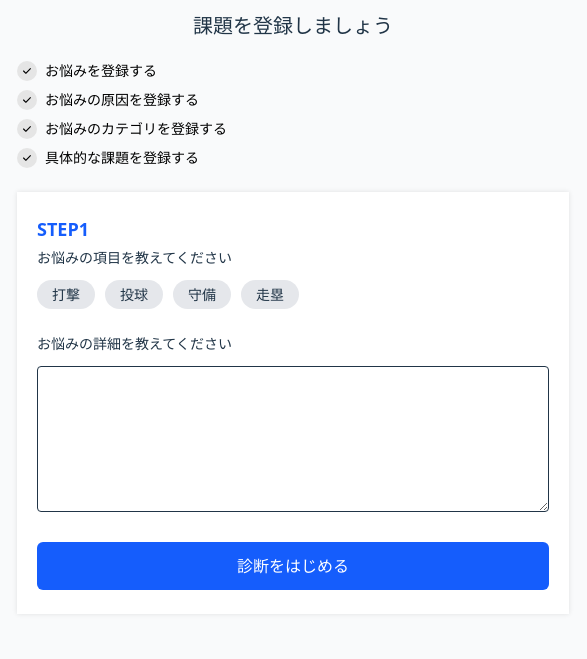
Test: STEP画面1のテスト › フォームのみ登録した場合、「選択肢が未登録です」の文字列が表示される
The width and height of the screenshot is (587, 659).
Type "テストテキスト" into the text box with class "step1Form". click: (293, 439)
box: [37,366,549,512]
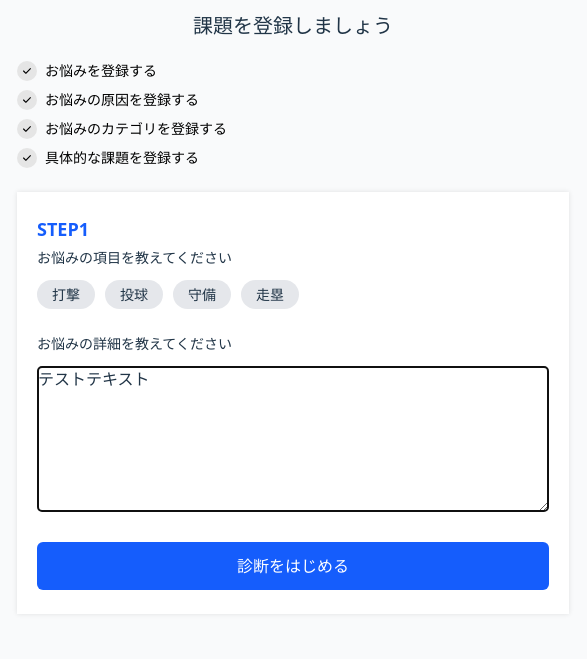
Click the button "診断をはじめる". click: (293, 566)
box: [37,542,549,590]
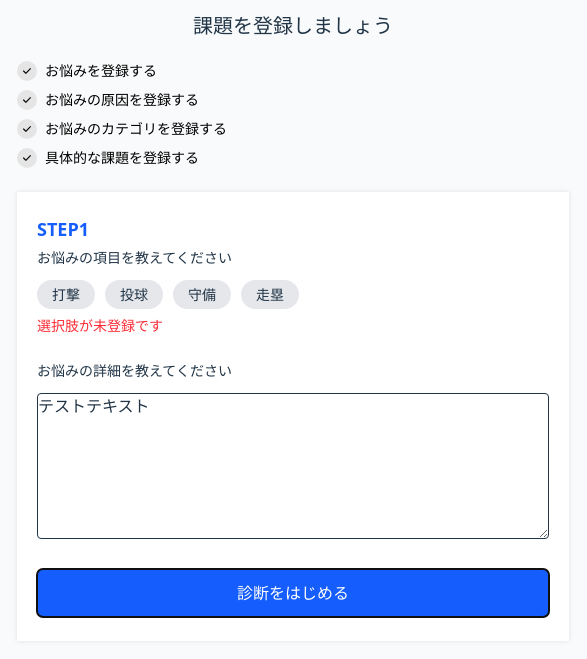
Result: the text "選択肢が未登録です" is shown at [37,316,163,335]
